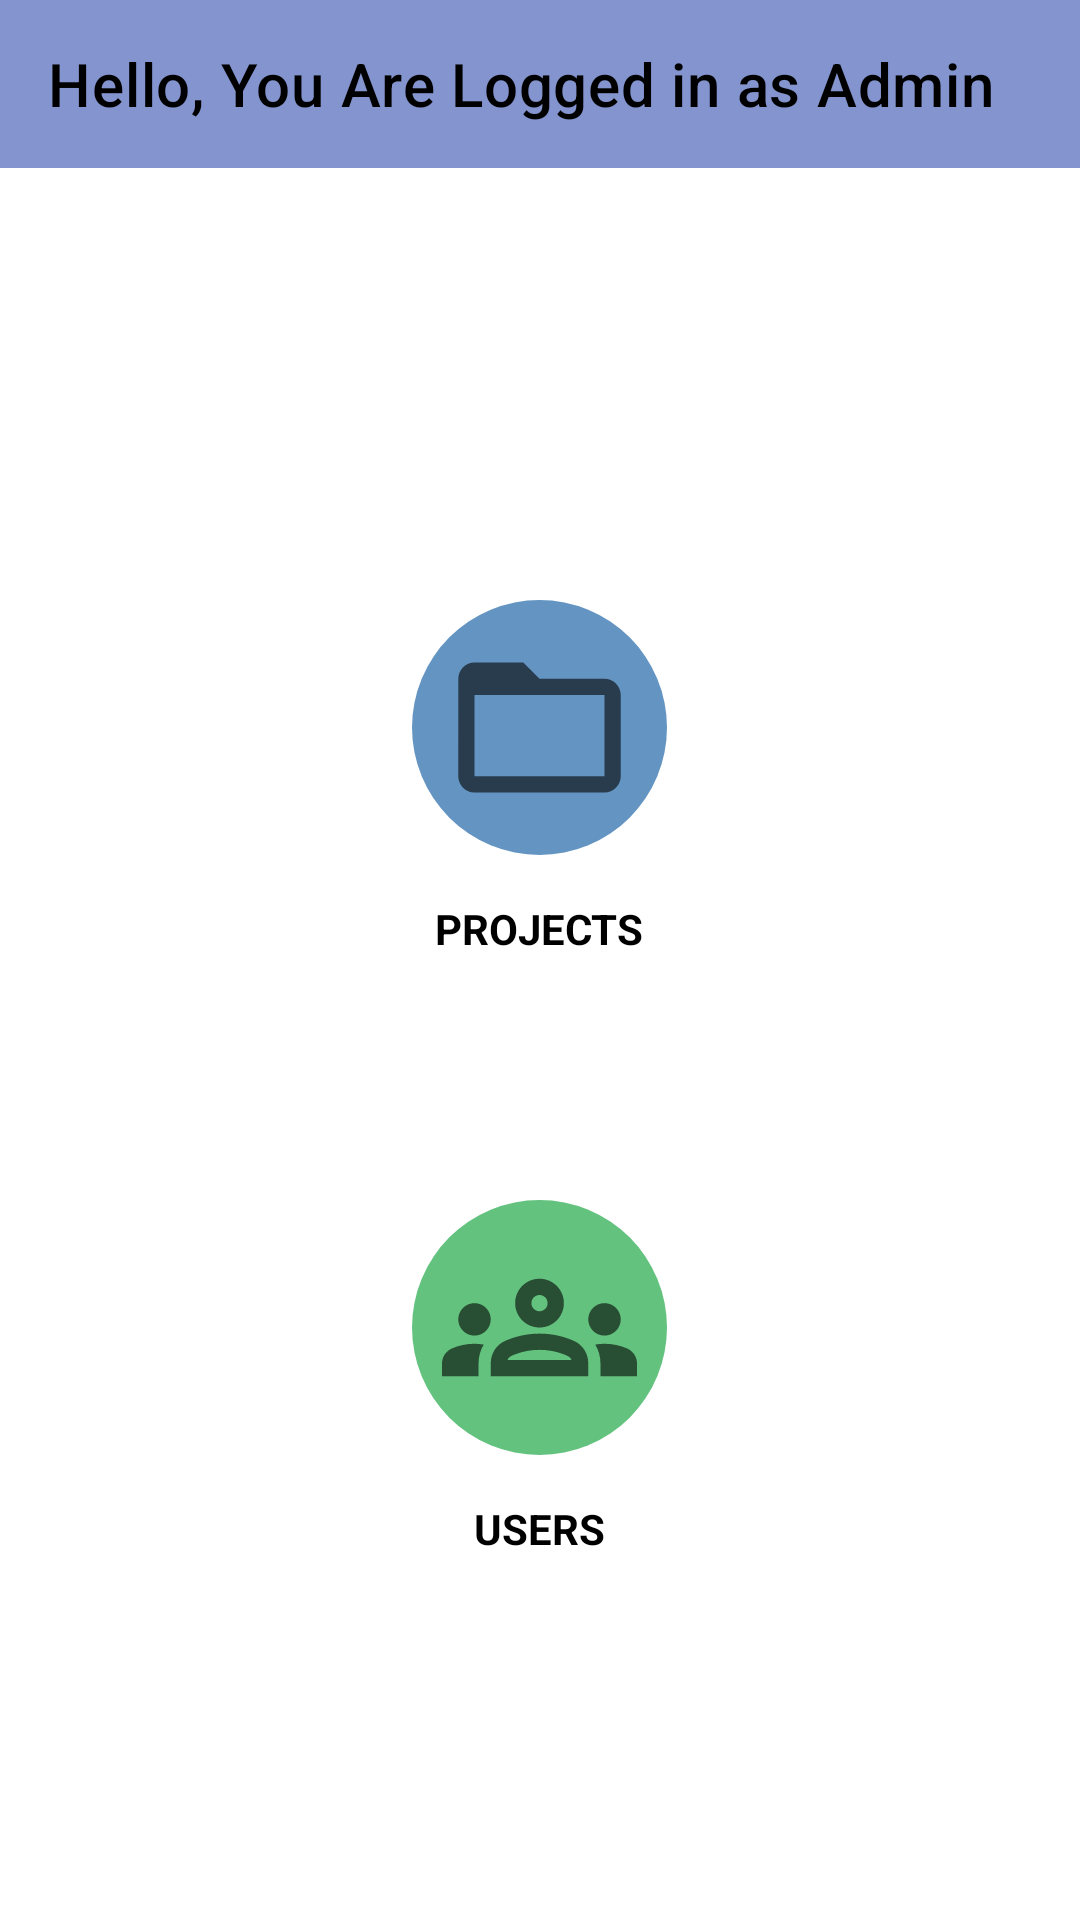

Icon bounding boxes for this 1080px x 1920px phone screenshot, format BBox(x1, y1, x2, y2):
folder open: BBox(412, 600, 667, 855)
groups: BBox(412, 1200, 667, 1455)
